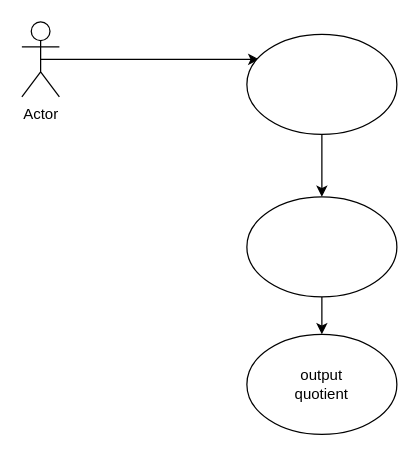
This 419x456 diagram has some shape labels left out. The box of each missing label's shape, as (x1, y1, x2, y2) in pixels:
division a/b: (246, 196, 397, 297)
inputs a,b: (246, 33, 397, 134)
